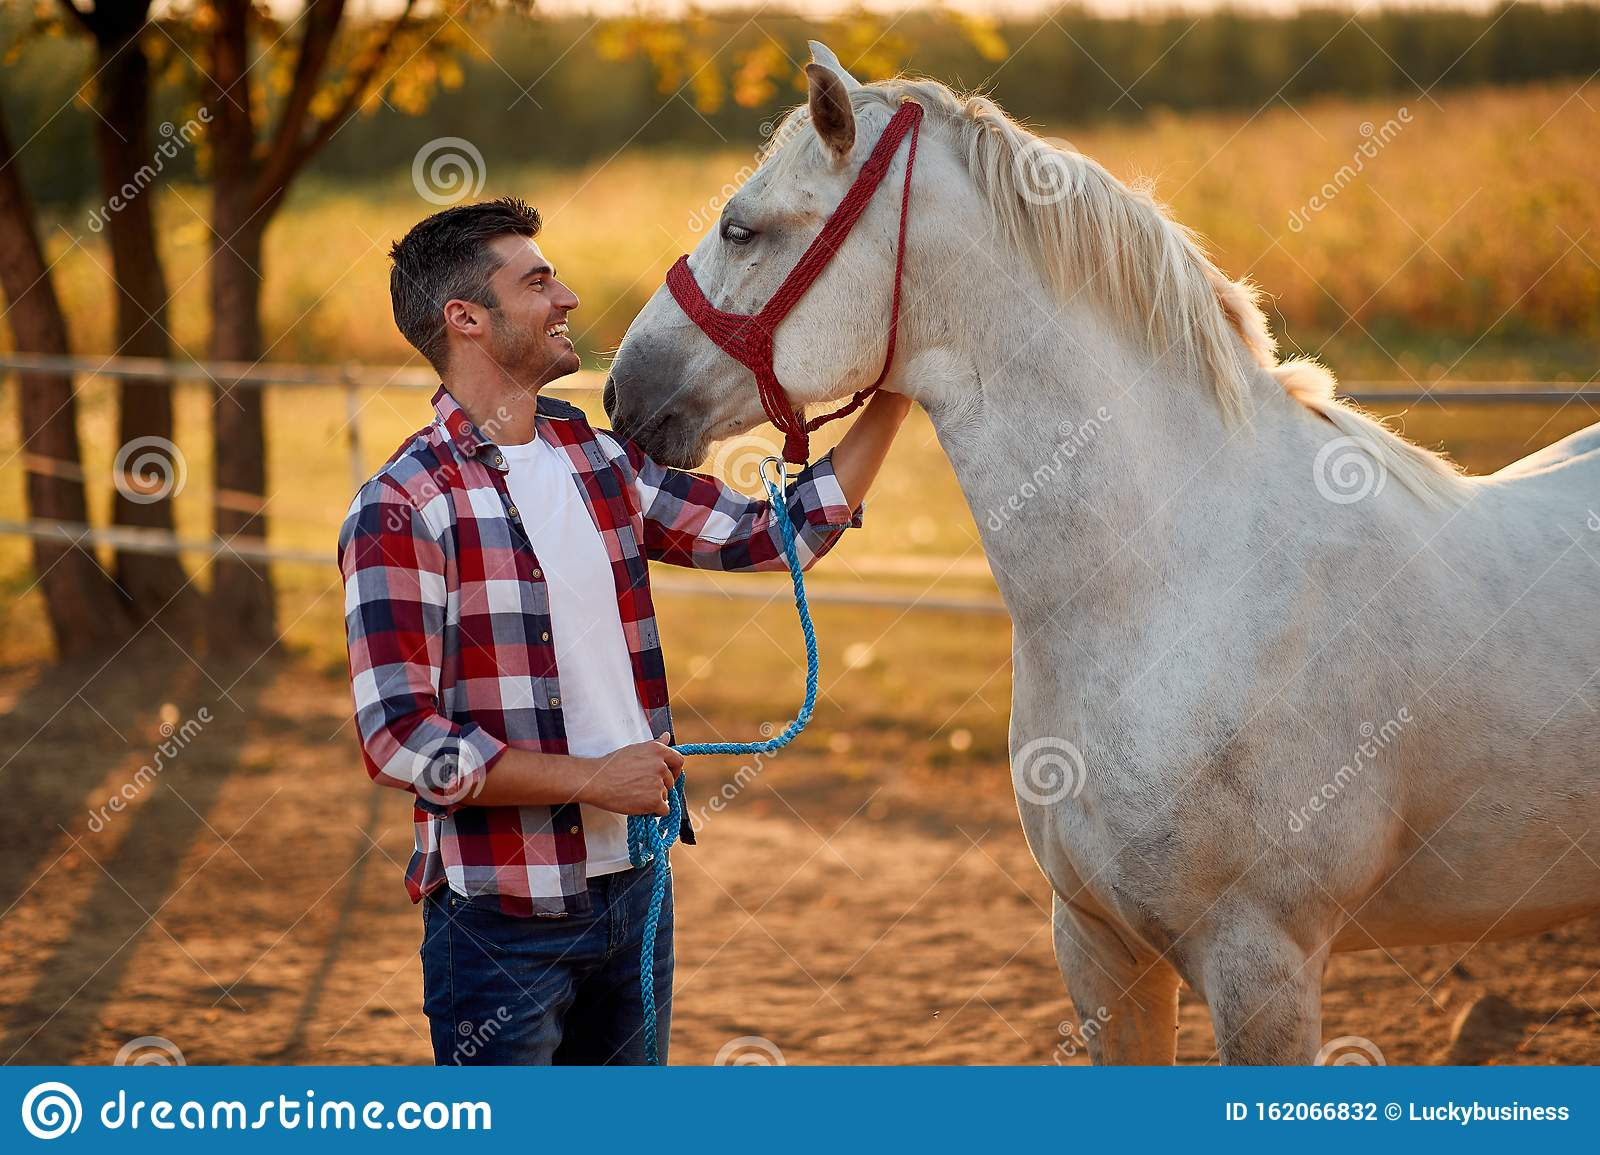Horse: (604, 38, 1590, 1043)
Person: (302, 157, 709, 1068)
